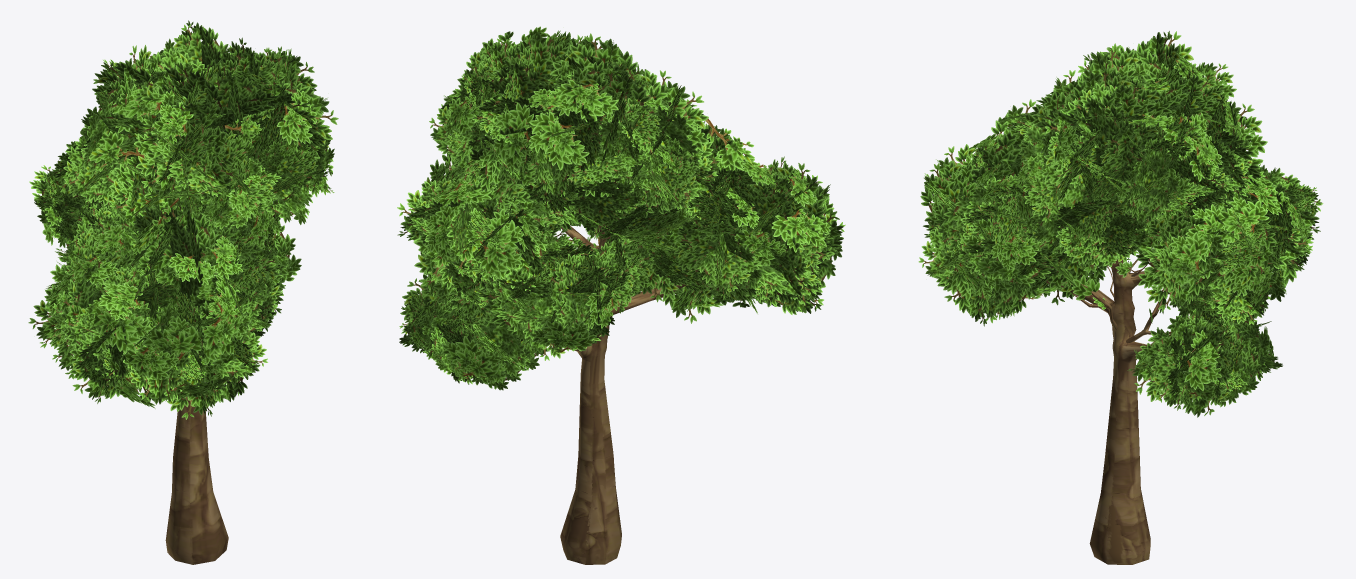
Rendered from Arbol Alta 2.fbx.
3 views of the same model, side by side, from view 1: azimuth 30°, elevation 25°; view 2: azimuth 150°, elevation 25°; view 3: azimuth 270°, elevation 25° (orthographic). The views are drawn at different scales.
Visible parts, largest first — view 1: Plane.442; view 2: Plane.442; view 3: Plane.442.
Boxes of the visible parts, x1,y1,x2,y2 form: Plane.442: [28, 20, 338, 564]; Plane.442: [397, 26, 845, 564]; Plane.442: [918, 31, 1323, 564].
Size of the model in its own units: 1921 by 2581 by 2014.
